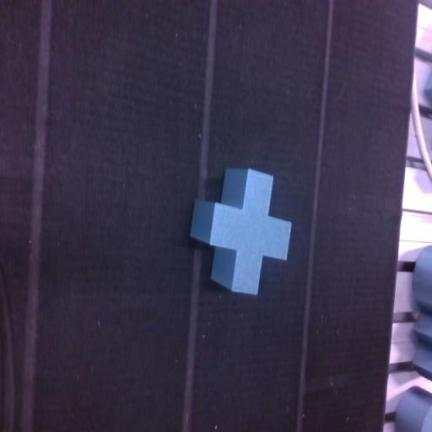cross: (191, 169, 291, 294)
